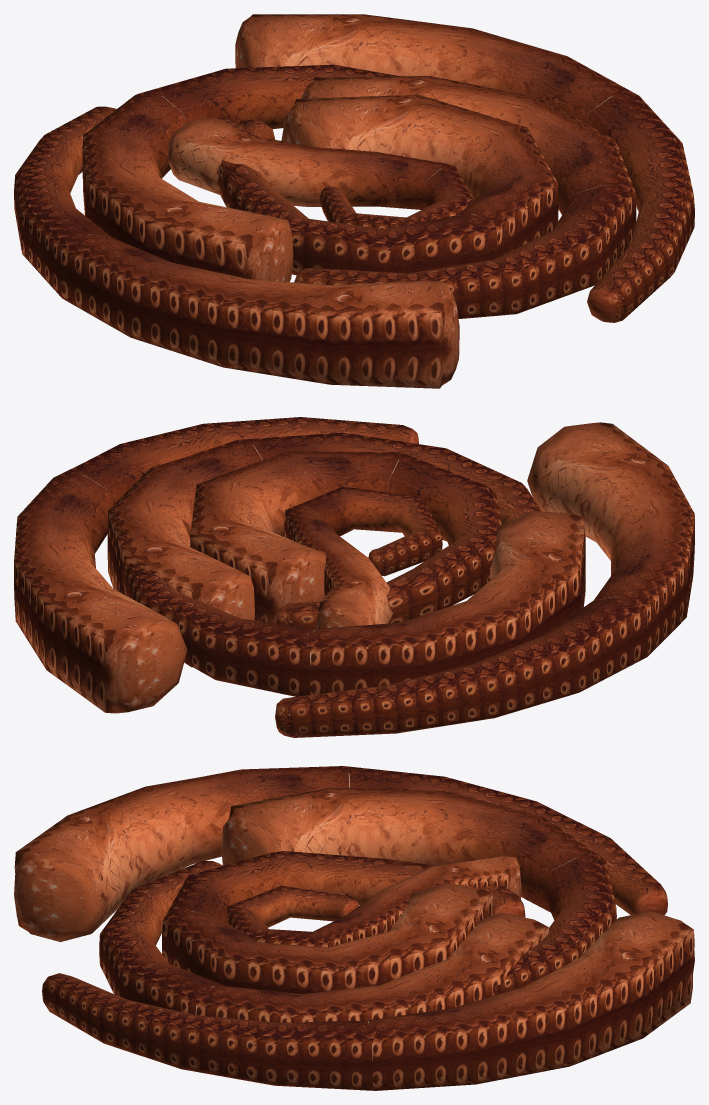
The model's file is ahtapot_sandwich.fbx.
3 renders of one model, top to bottom at view 1: azimuth 30°, elevation 25°; view 2: azimuth 150°, elevation 25°; view 3: azimuth 270°, elevation 25°, orthographic. The views are drawn at different scales.
Visible parts, largest first — view 1: ahtapot_sandwich; view 2: ahtapot_sandwich; view 3: ahtapot_sandwich.
Part boxes in pixels (x1,y1,x2,y2): ahtapot_sandwich: (14, 14, 694, 388); ahtapot_sandwich: (14, 417, 694, 737); ahtapot_sandwich: (14, 766, 694, 1090).
Bounding box in the file's own units: 32.45 × 5.3 × 33.68.
